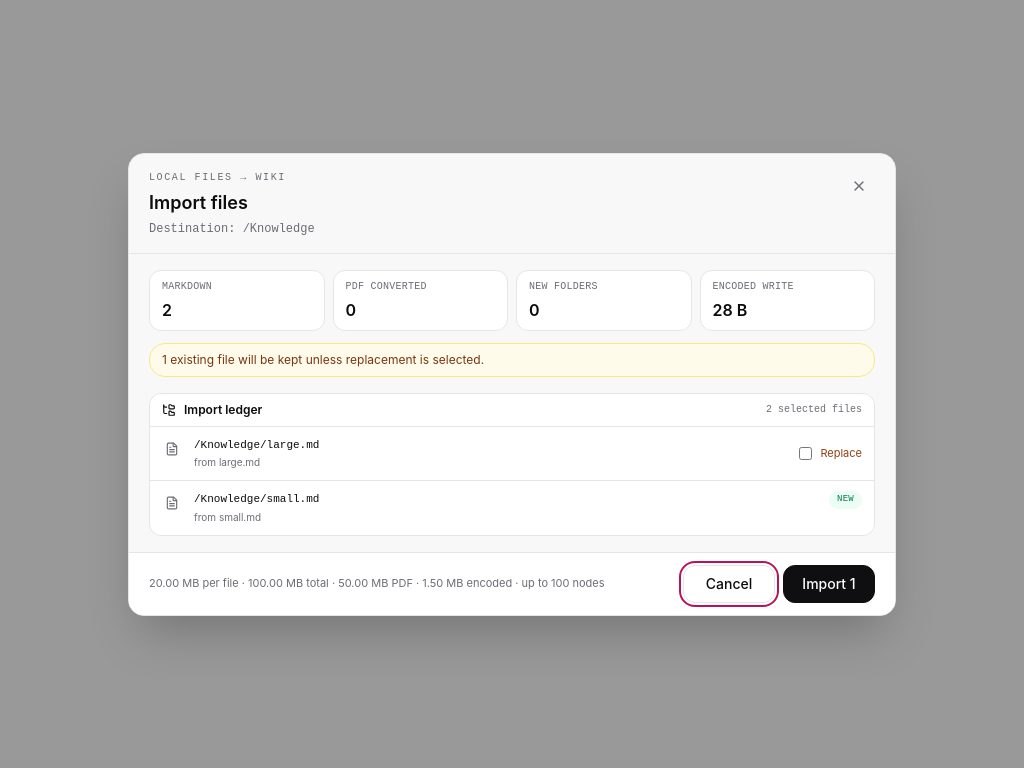
LocalImportDialog › updates the write limit after replacement selection
Expected: the text "encoded write bytes" is not shown
Expected: the button "Import 1" is enabled, left=783, top=564, right=875, bottom=602
Step 1. Click the checkbox → [806, 453], box left=799, top=447, right=812, bottom=460
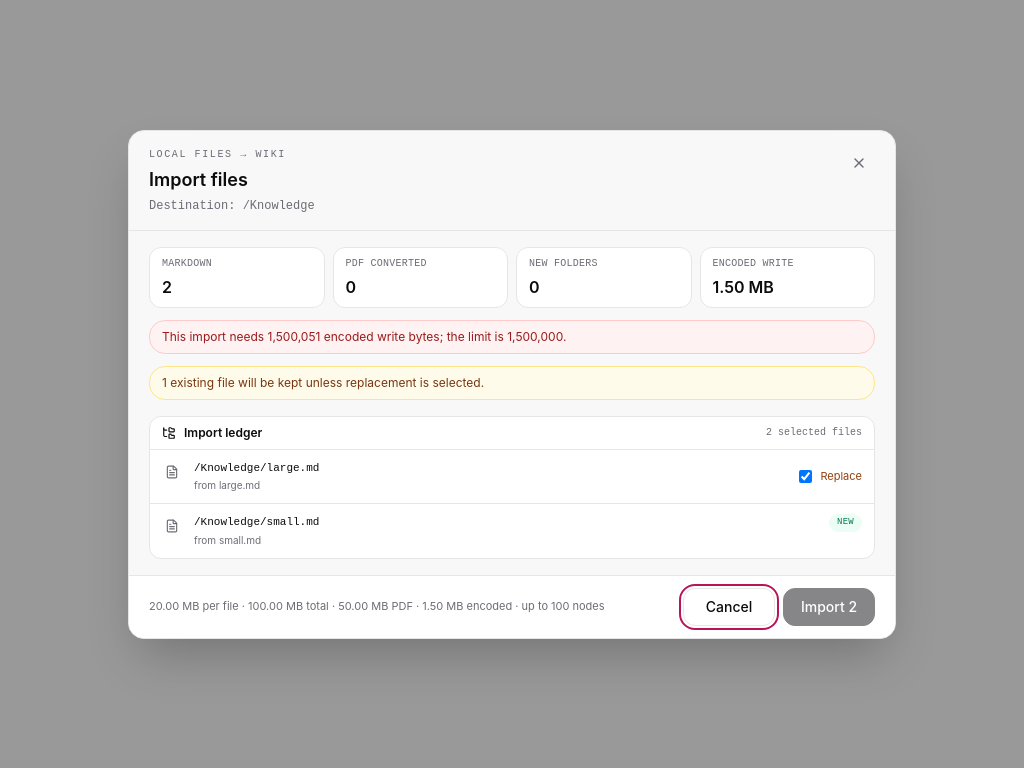
Now the text "encoded write bytes" is shown, box left=162, top=328, right=566, bottom=344
Now the button "Import 2" is disabled, box left=783, top=588, right=875, bottom=626
